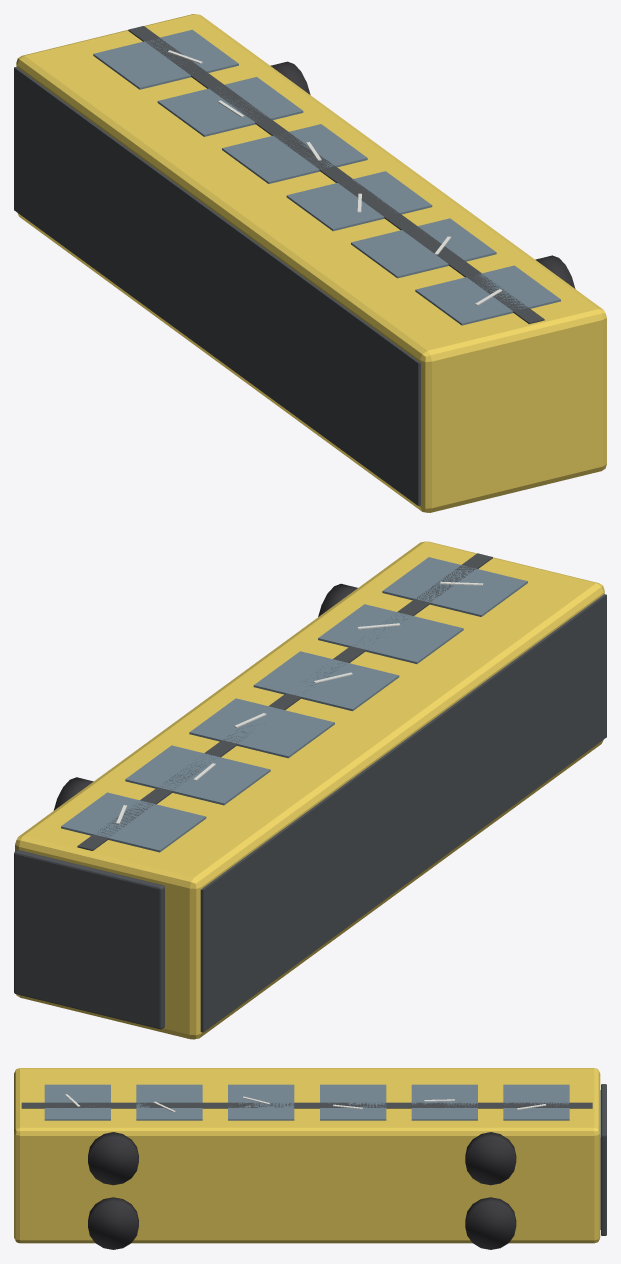
File: Bus.fbx
The picture shows the model from 3 angles, top to bottom: view 1: azimuth 30°, elevation 25°; view 2: azimuth 150°, elevation 25°; view 3: azimuth 270°, elevation 25°; orthographic projection. The views are drawn at different scales.
Parts seen in each view (by area): view 1: Bus_Body, Bus_RoofEdge, Bus_Stripe, Bus_WindowUp0, Bus_WindowUp3, Bus_WindowUp5, Bus_WindowUp4, Bus_WindowUp2, Bus_WindowUp1; view 2: Bus_RoofEdge, Bus_Body, Bus_Bumper, Bus_WindowUp5, Bus_WindowUp4, Bus_WindowUp2, Bus_WindowUp3, Bus_WindowUp1, Bus_WindowUp0, Bus_Stripe; view 3: Bus_Body, Bus_Stripe, Bus_WindowUp2, Bus_WindowUp3, Bus_WindowUp4, Bus_WindowUp5, Bus_Wheel11, Bus_Wheel01, Bus_Wheel10, Bus_Wheel00, Bus_WindowUp1, Bus_WindowUp0 (+1 smaller).
Boxes of the visible parts, x1,y1,x2,y2 form: Bus_Body: [16, 14, 606, 512]; Bus_RoofEdge: [14, 67, 420, 505]; Bus_Stripe: [128, 26, 544, 324]; Bus_WindowUp0: [415, 265, 560, 325]; Bus_WindowUp3: [222, 124, 367, 183]; Bus_WindowUp5: [93, 29, 238, 89]; Bus_WindowUp4: [157, 77, 303, 136]; Bus_WindowUp2: [286, 171, 432, 231]; Bus_WindowUp1: [351, 218, 496, 278]; Bus_RoofEdge: [200, 594, 606, 1032]; Bus_Body: [15, 541, 604, 1039]; Bus_Bumper: [14, 850, 164, 1029]; Bus_WindowUp5: [61, 792, 206, 852]; Bus_WindowUp4: [125, 745, 270, 805]; Bus_WindowUp2: [253, 651, 399, 711]; Bus_WindowUp3: [189, 698, 334, 758]; Bus_WindowUp1: [318, 604, 463, 663]; Bus_WindowUp0: [382, 557, 527, 616]; Bus_Stripe: [77, 553, 492, 850]; Bus_Body: [14, 1068, 600, 1243]; Bus_Stripe: [21, 1102, 592, 1108]; Bus_WindowUp2: [228, 1084, 294, 1120]; Bus_WindowUp3: [320, 1084, 386, 1120]; Bus_WindowUp4: [411, 1084, 477, 1120]; Bus_WindowUp5: [503, 1084, 569, 1120]; Bus_Wheel11: [465, 1132, 516, 1185]; Bus_Wheel01: [88, 1132, 138, 1185]; Bus_Wheel10: [465, 1197, 516, 1249]; Bus_Wheel00: [88, 1197, 138, 1249]; Bus_WindowUp1: [136, 1084, 202, 1120]; Bus_WindowUp0: [44, 1084, 110, 1120].
Bounding box in the file's own units: 3.34 × 2.55 × 11.63.
